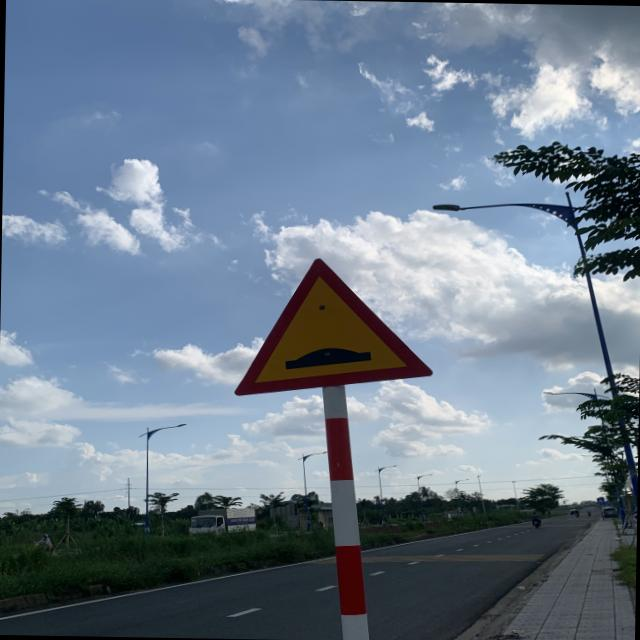Duong_Cong_Ben_Phai: (234, 255, 437, 398)
